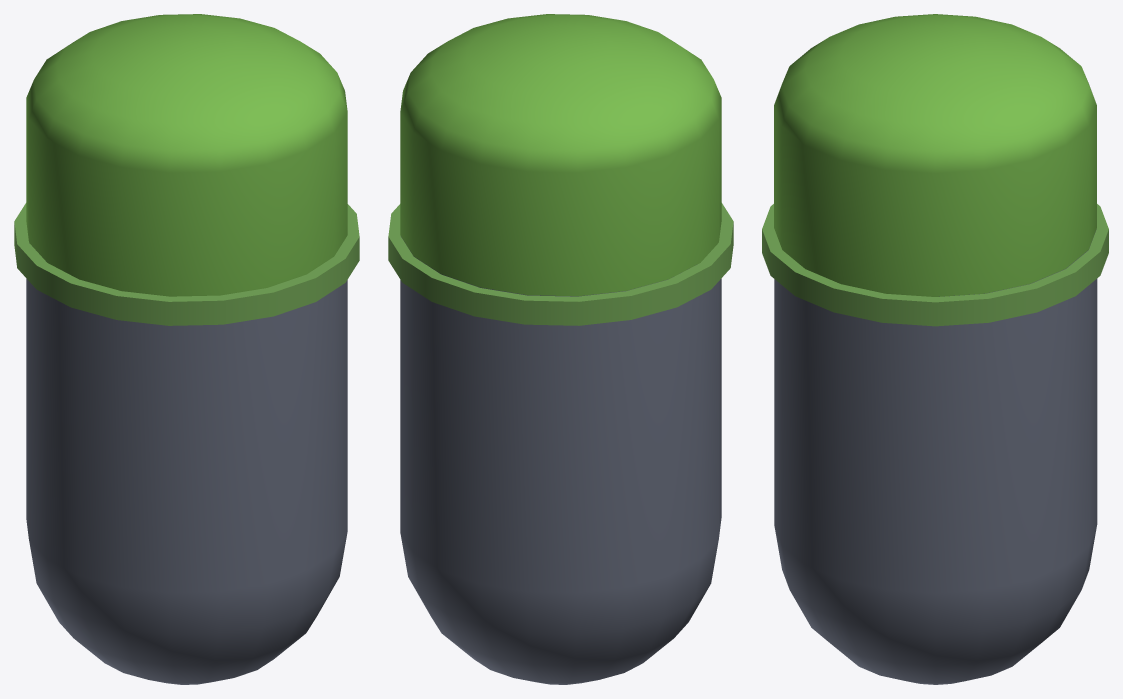
The model's file is Player Model.fbx.
3 renders of one model, left to right at view 1: azimuth 30°, elevation 25°; view 2: azimuth 150°, elevation 25°; view 3: azimuth 270°, elevation 25°, orthographic.
Parts seen in each view (by area): view 1: pCylinder1, pCylinder5, pCylinder3; view 2: pCylinder1, pCylinder5, pCylinder3; view 3: pCylinder1, pCylinder5, pCylinder3.
Part boxes in pixels (box(x1,y1,x2,y2)): pCylinder1: box(26, 243, 347, 684); pCylinder5: box(26, 14, 347, 296); pCylinder3: box(14, 203, 359, 325); pCylinder1: box(400, 237, 721, 684); pCylinder5: box(400, 14, 721, 296); pCylinder3: box(388, 203, 733, 325); pCylinder1: box(774, 229, 1097, 684); pCylinder5: box(774, 14, 1096, 296); pCylinder3: box(762, 204, 1108, 326).
Size of the model in its own units: 2.15 by 4.29 by 2.15.
